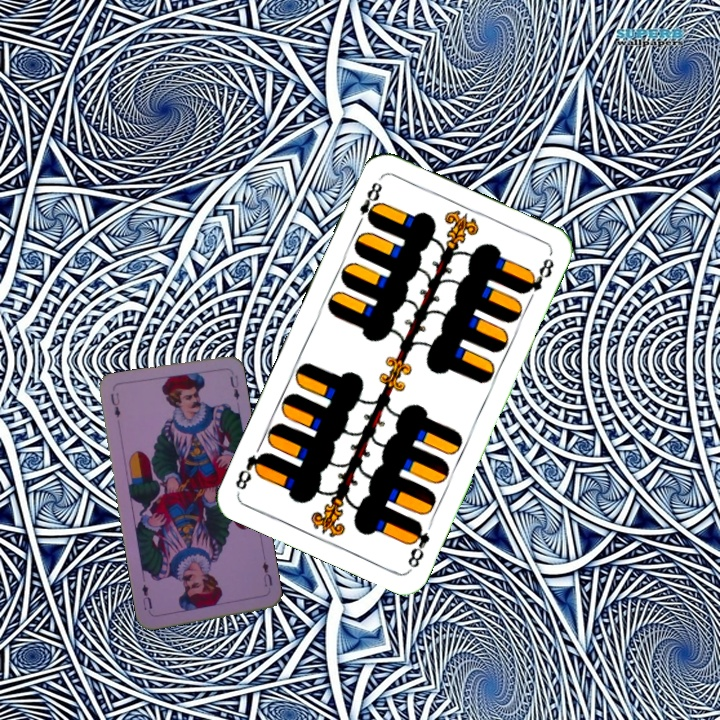E8: (352, 178, 385, 230), (403, 517, 433, 572)
EU: (258, 557, 275, 589), (107, 388, 123, 420)
